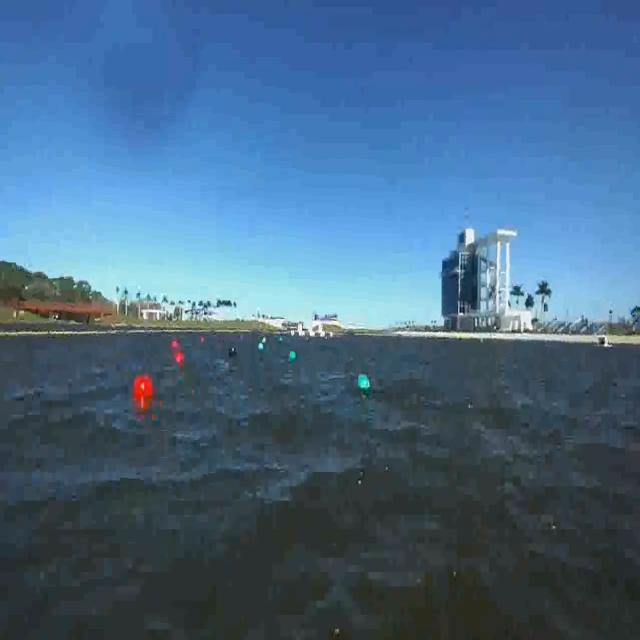black-buoy: (228, 342, 239, 356)
green-buoy: (356, 375, 369, 394), (290, 346, 298, 361)
red-buoy: (134, 376, 153, 401), (175, 350, 184, 364)
